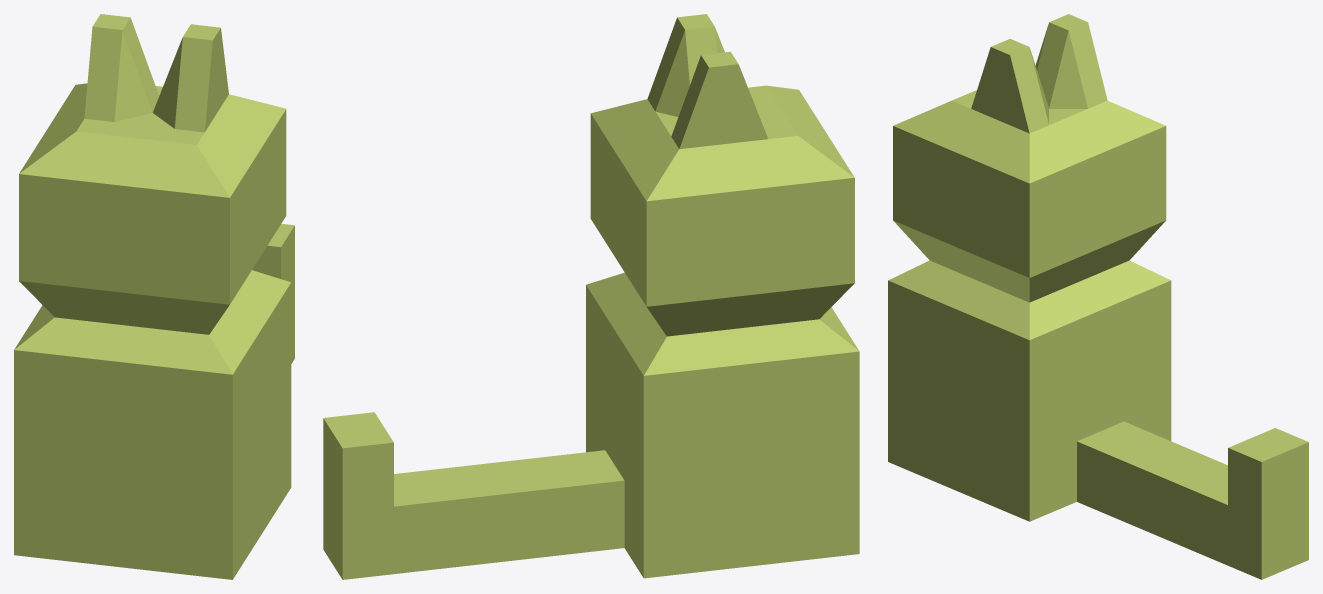
File: cat.dae
3 views of the same model, side by side, from view 1: azimuth 30°, elevation 25°; view 2: azimuth 150°, elevation 25°; view 3: azimuth 270°, elevation 25° (orthographic). The views are drawn at different scales.
Parts seen in each view (by area): view 1: Cube; view 2: Cube; view 3: Cube.
Part boxes in pixels (box(x1,y1,x2,y2)): Cube: box(14, 14, 294, 579); Cube: box(323, 14, 859, 579); Cube: box(888, 14, 1308, 579).
Bounding box in the file's own units: 4.2 × 4.2 × 4.76.
